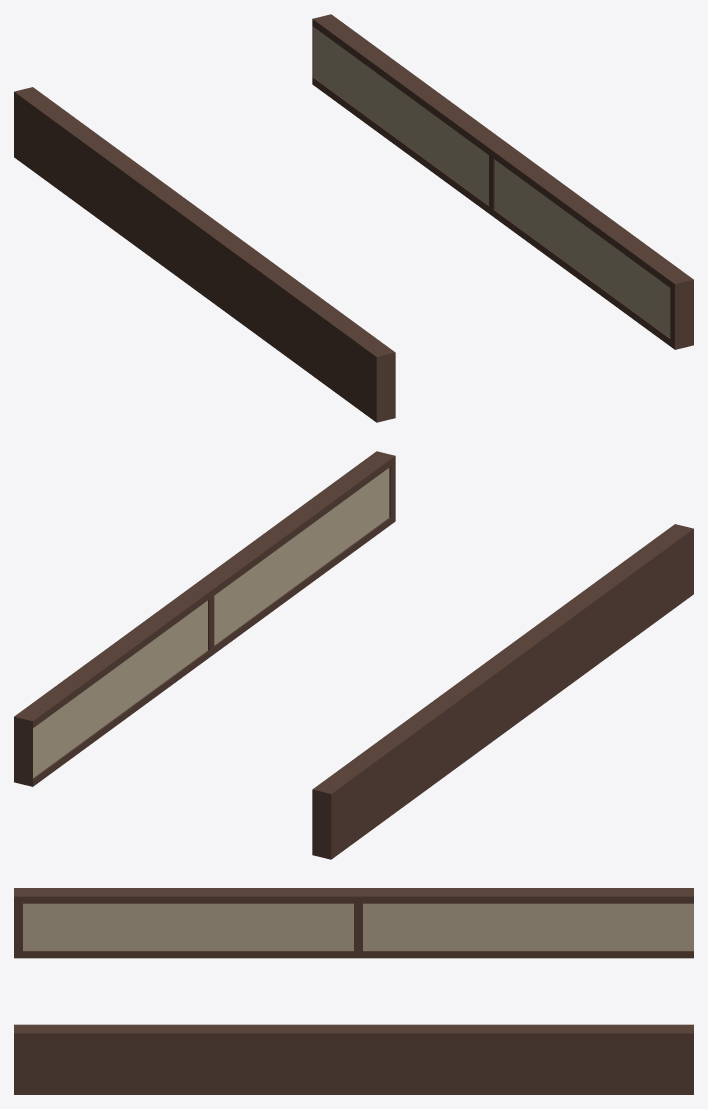
File: set_1_wall_U.glb
3 renders of one model, top to bottom at view 1: azimuth 30°, elevation 25°; view 2: azimuth 150°, elevation 25°; view 3: azimuth 270°, elevation 25°, orthographic. The views are drawn at different scales.
Visible parts, largest first — view 1: WallUpper; view 2: WallUpper; view 3: WallUpper.
Part boxes in pixels (box(x1,y1,x2,y2)): WallUpper: box(14, 14, 693, 422); WallUpper: box(14, 451, 693, 859); WallUpper: box(14, 888, 693, 1094).
Size of the model in its own units: 5.5 by 1.09 by 10.89.
